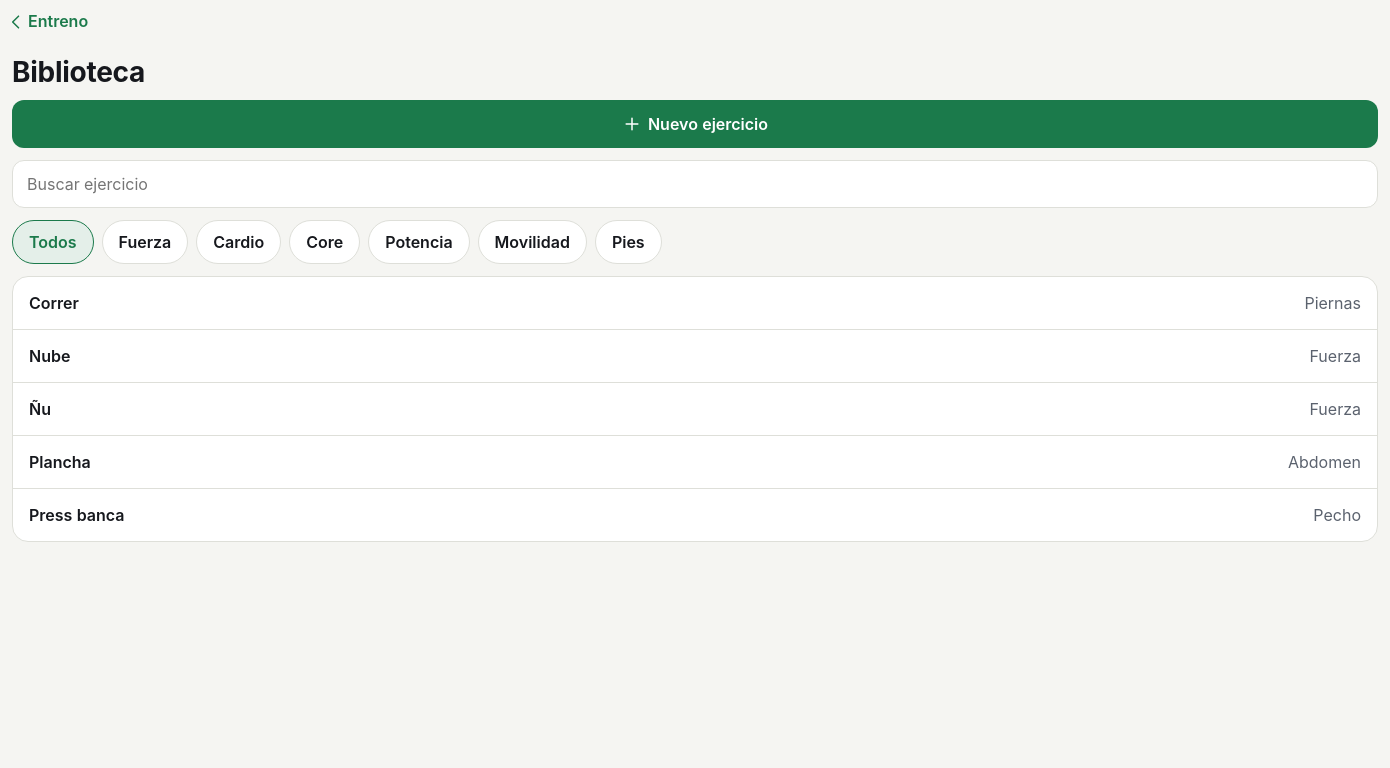
Test: Biblioteca: lista y filtros › busca sin importar mayúsculas ni tildes, también por músculo
Type "ÑU" into the search field labelled "Buscar ejercicio".
click(695, 184); type("ÑU")  # box [12,160,1378,208]
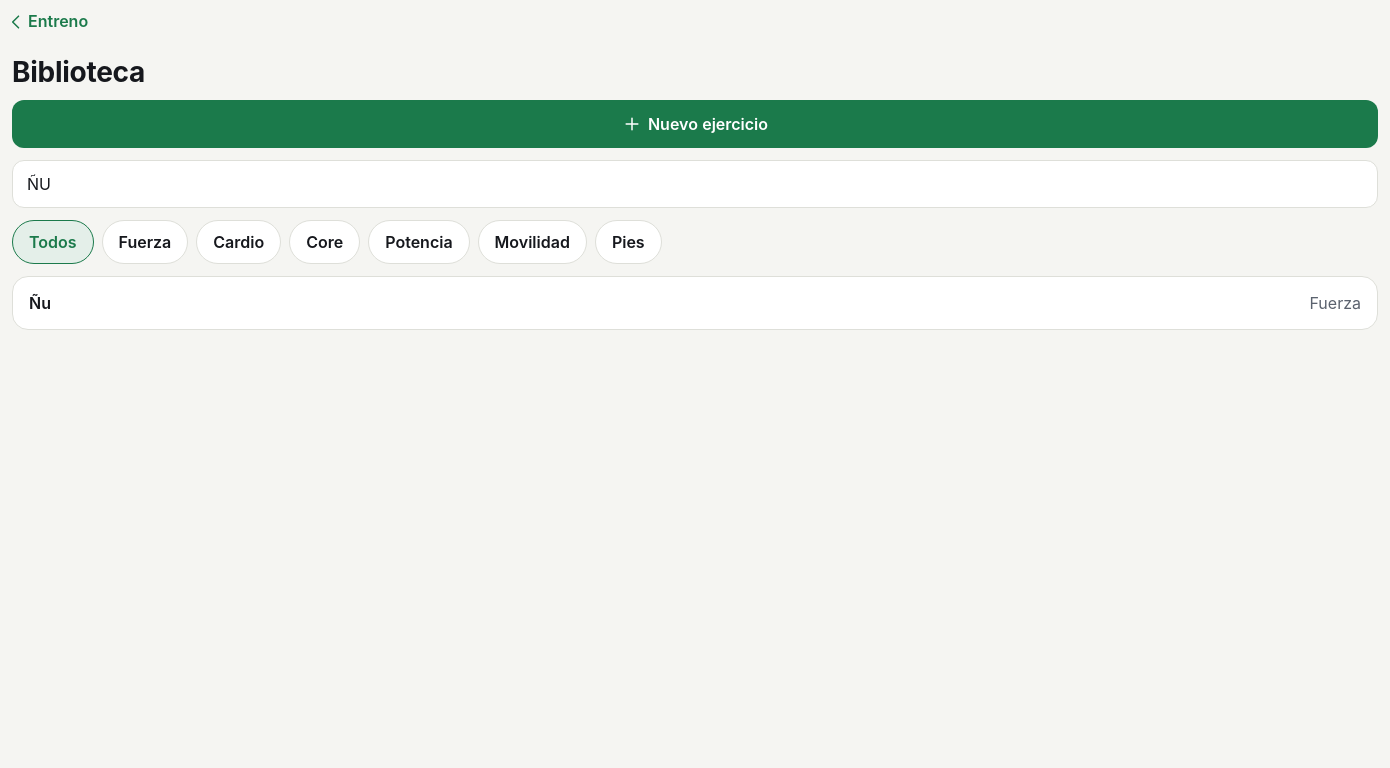
Replace the text in the search field named "Buscar ejercicio" with "abdómen" at (695, 184), box [12,160,1378,208]
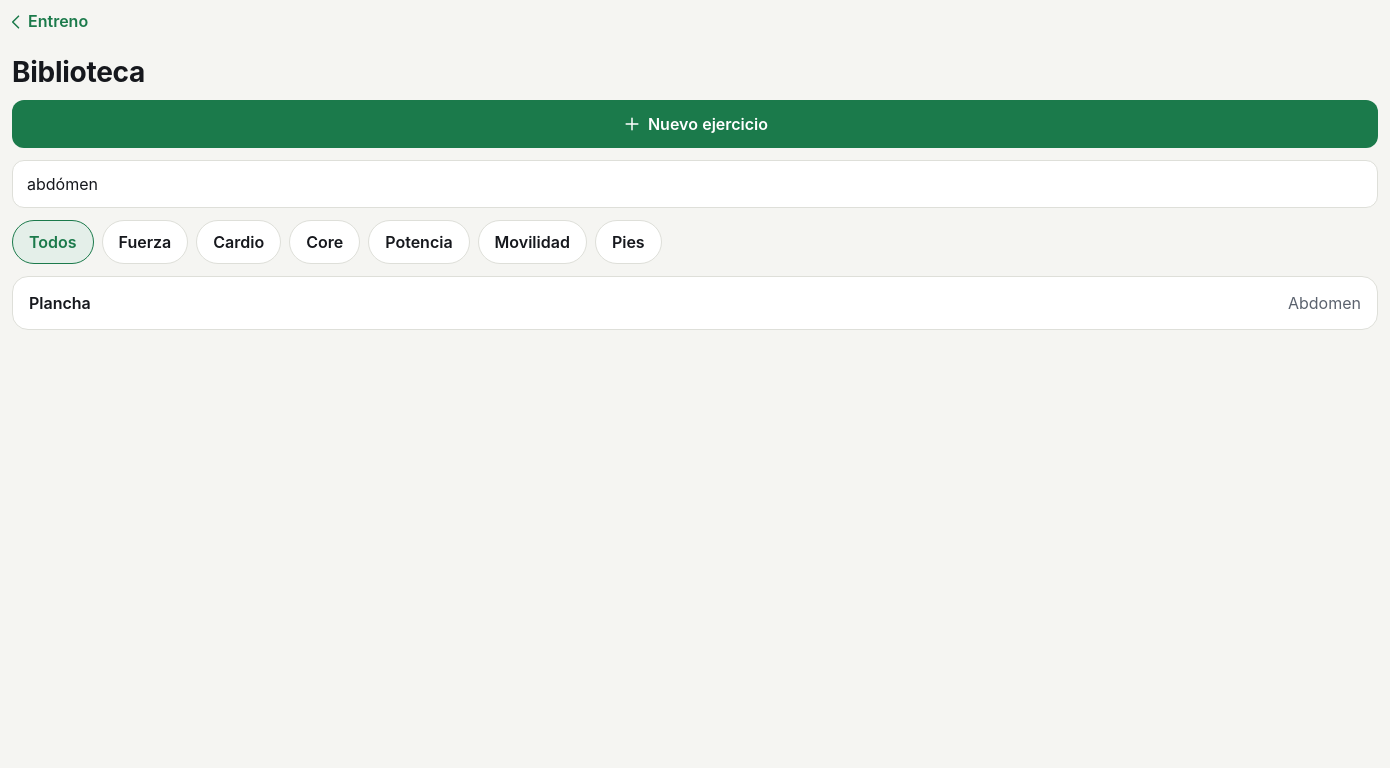
Replace the text in the search field named "Buscar ejercicio" with "zzz" at (695, 184), box [12,160,1378,208]
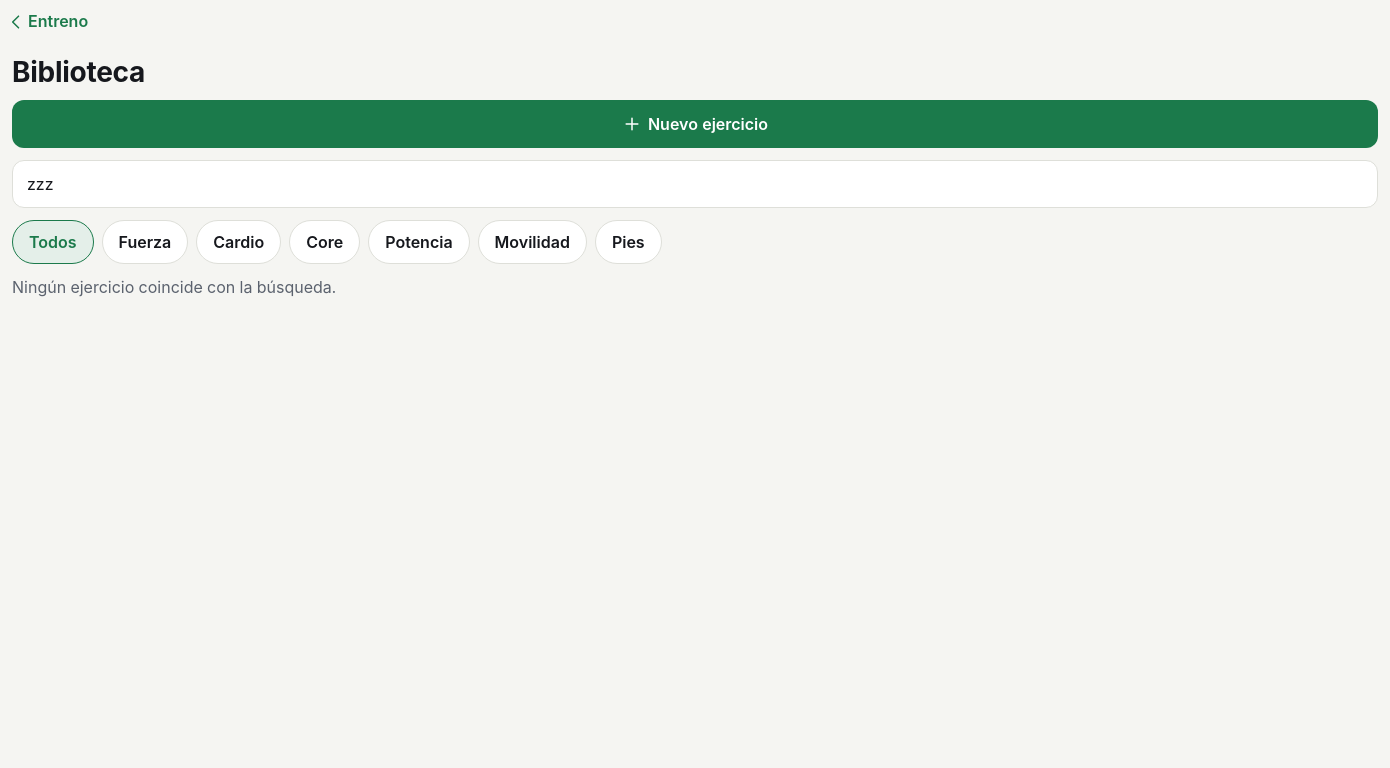
Check: the text "Ningún ejercicio coincide con la búsqueda." is shown, box [12,277,336,297]
